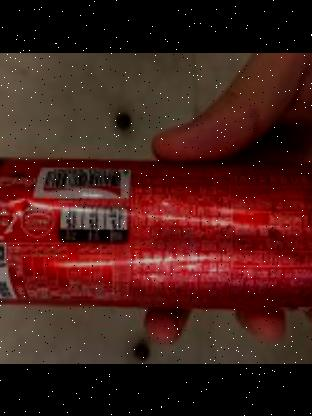Can: (0, 155, 312, 310)
